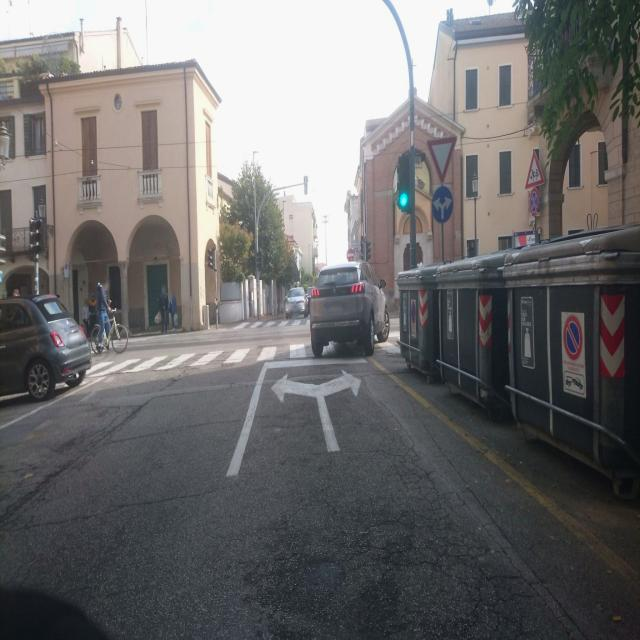bike: (88, 308, 128, 354)
car: (0, 295, 92, 407), (309, 260, 390, 358), (284, 287, 309, 319)
